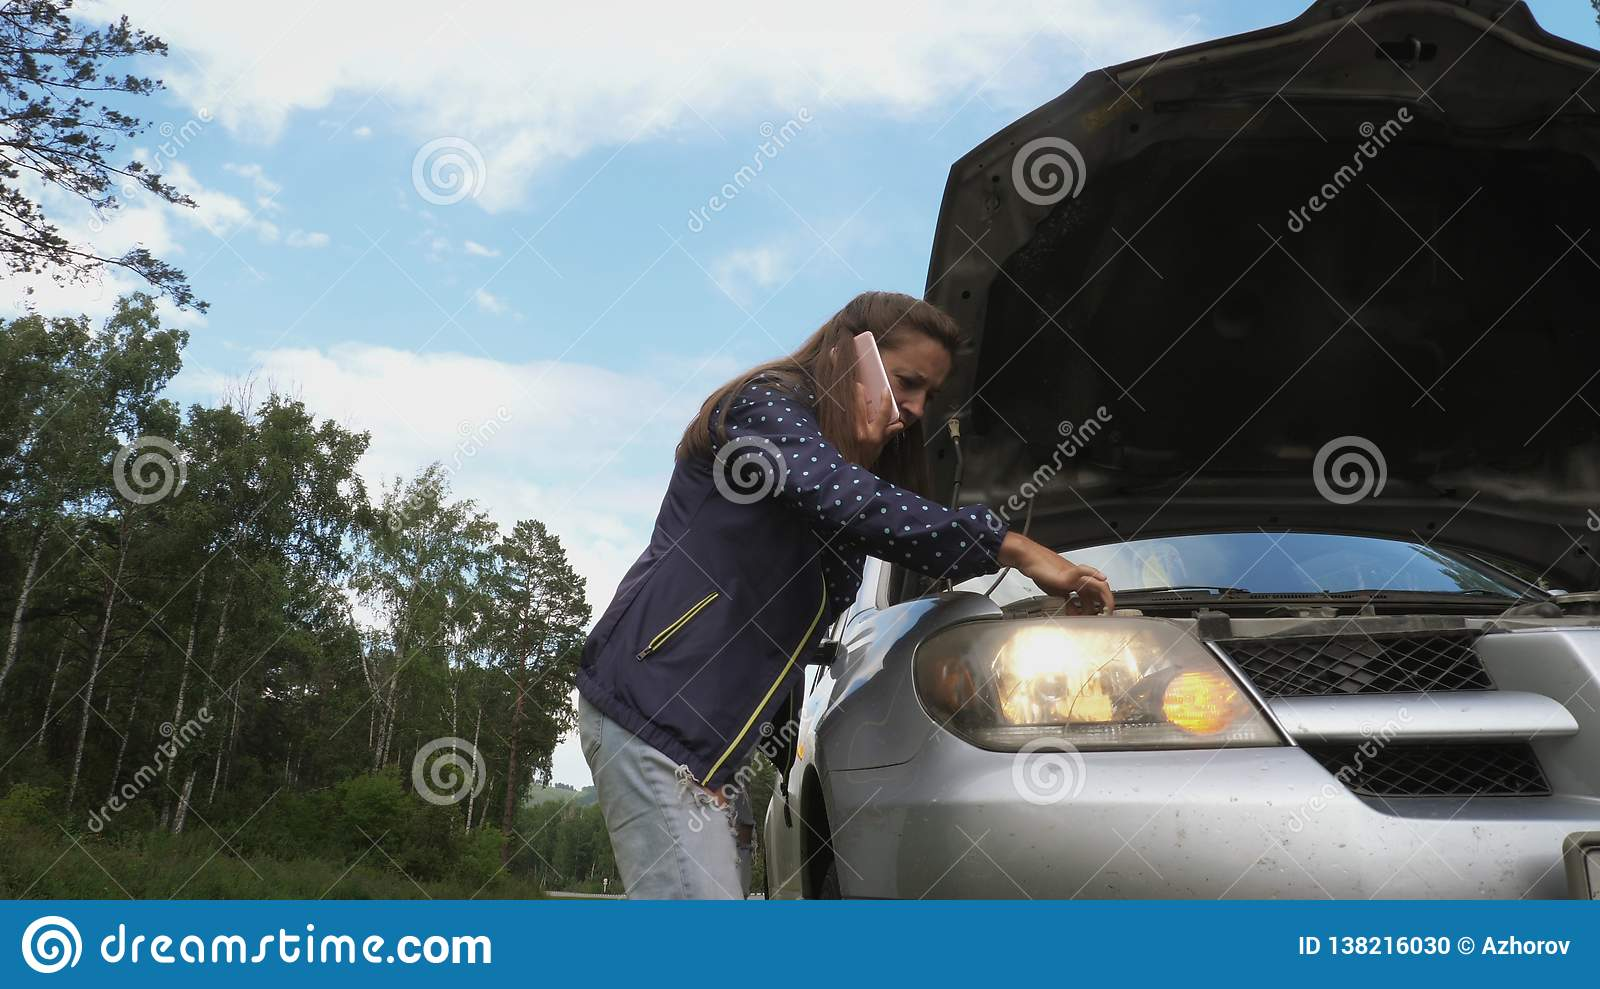phone: (832, 326, 903, 436)
talk: (832, 326, 942, 482)
